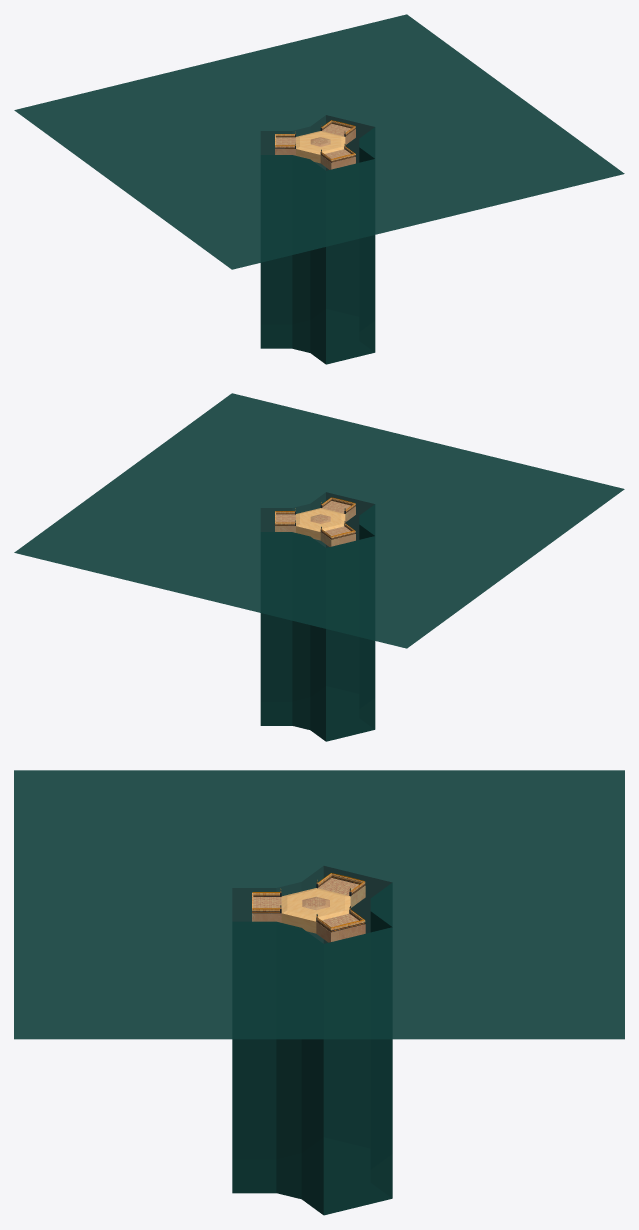
File: Battle_Stage 5.fbx
The picture shows the model from 3 angles, top to bottom: view 1: azimuth 30°, elevation 25°; view 2: azimuth 150°, elevation 25°; view 3: azimuth 270°, elevation 25°; orthographic projection. The views are drawn at different scales.
Visible parts, largest first — view 1: battle_stage_5_platform_New.001, battle_stage_5_platform_New; view 2: battle_stage_5_platform_New.001, battle_stage_5_platform_New; view 3: battle_stage_5_platform_New.001, battle_stage_5_platform_New, CR_Platform_Cube.026.
Boxes of the visible parts, x1=… form: battle_stage_5_platform_New.001: x1=14, y1=14, x2=624, y2=364; battle_stage_5_platform_New: x1=275, y1=123, x2=355, y2=169; battle_stage_5_platform_New.001: x1=14, y1=393, x2=624, y2=741; battle_stage_5_platform_New: x1=275, y1=501, x2=355, y2=546; battle_stage_5_platform_New.001: x1=14, y1=770, x2=624, y2=1215; battle_stage_5_platform_New: x1=252, y1=878, x2=365, y2=942; CR_Platform_Cube.026: x1=252, y1=873, x2=365, y2=932.
Bounding box in the file's own units: 48276 × 23980 × 46396.
